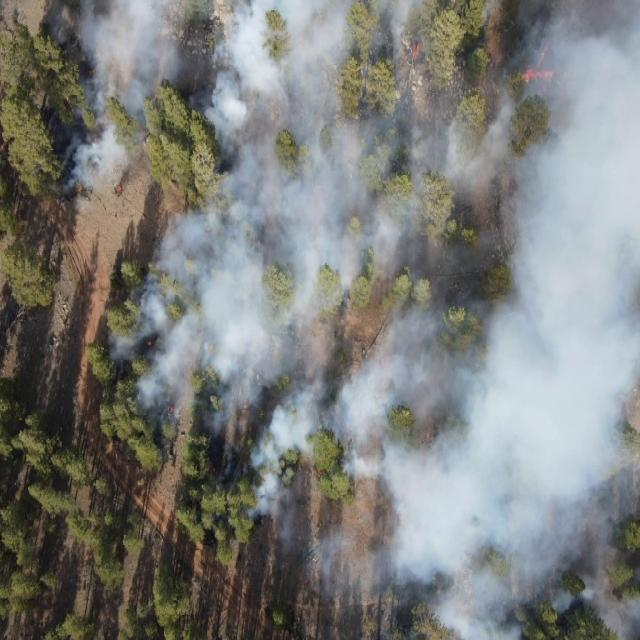fire: (522, 70, 556, 94), (532, 39, 550, 67), (408, 42, 424, 62), (312, 468, 324, 479), (112, 185, 124, 195), (72, 184, 84, 194), (166, 406, 178, 416), (256, 238, 264, 251), (146, 340, 154, 349), (212, 467, 216, 474)
smoke: (187, 250, 640, 521), (185, 86, 640, 250), (44, 0, 500, 85), (268, 520, 640, 610), (512, 1, 640, 85), (61, 86, 152, 204), (154, 216, 185, 430), (366, 610, 524, 640), (130, 276, 154, 414), (599, 610, 640, 640), (106, 328, 130, 362)
